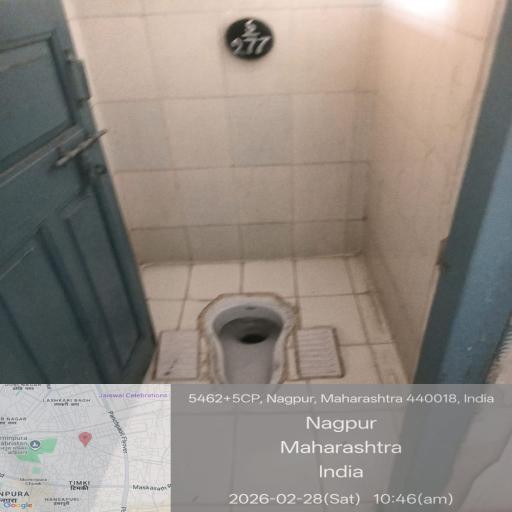clean_floor: (80, 21, 479, 248)
partial_dirty_indian: (135, 252, 365, 442)
